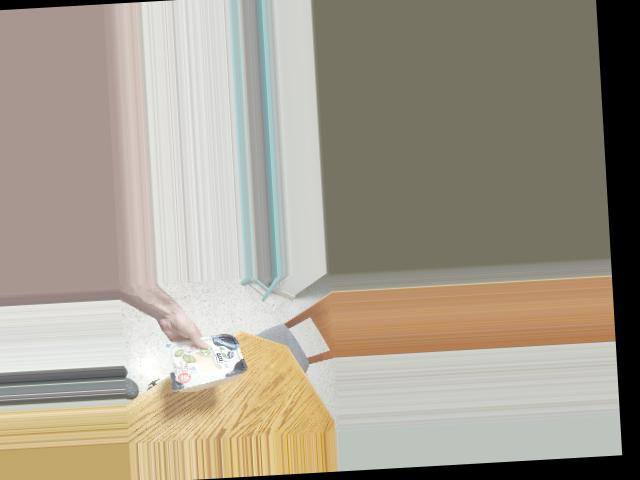cheese: (160, 329, 249, 382)
